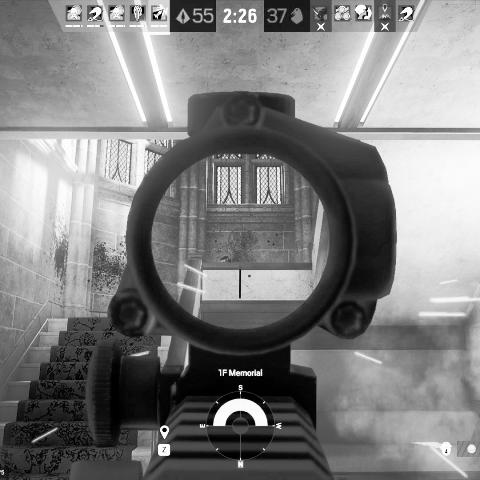Character: (219, 254, 234, 263)
Head: (220, 256, 231, 262)
